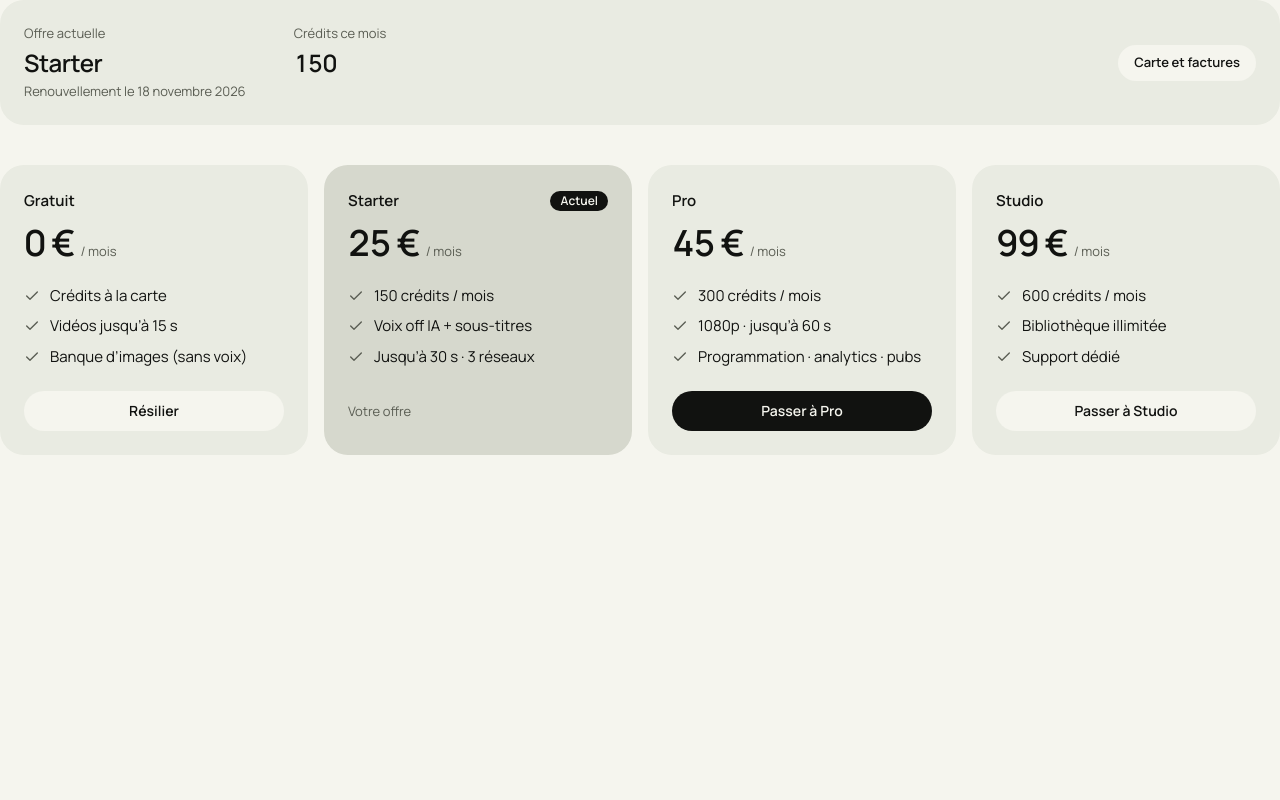
Scenario: <Paywall /> plan changes for a subscriber (AC-9..AC-11) › an upgrade shows the amount due today before anything is charged
What coordinates should you click on to do the following:
click the button with test id "change-pro"
I would click on:
 (802, 411)
Its box is [672, 391, 932, 431].
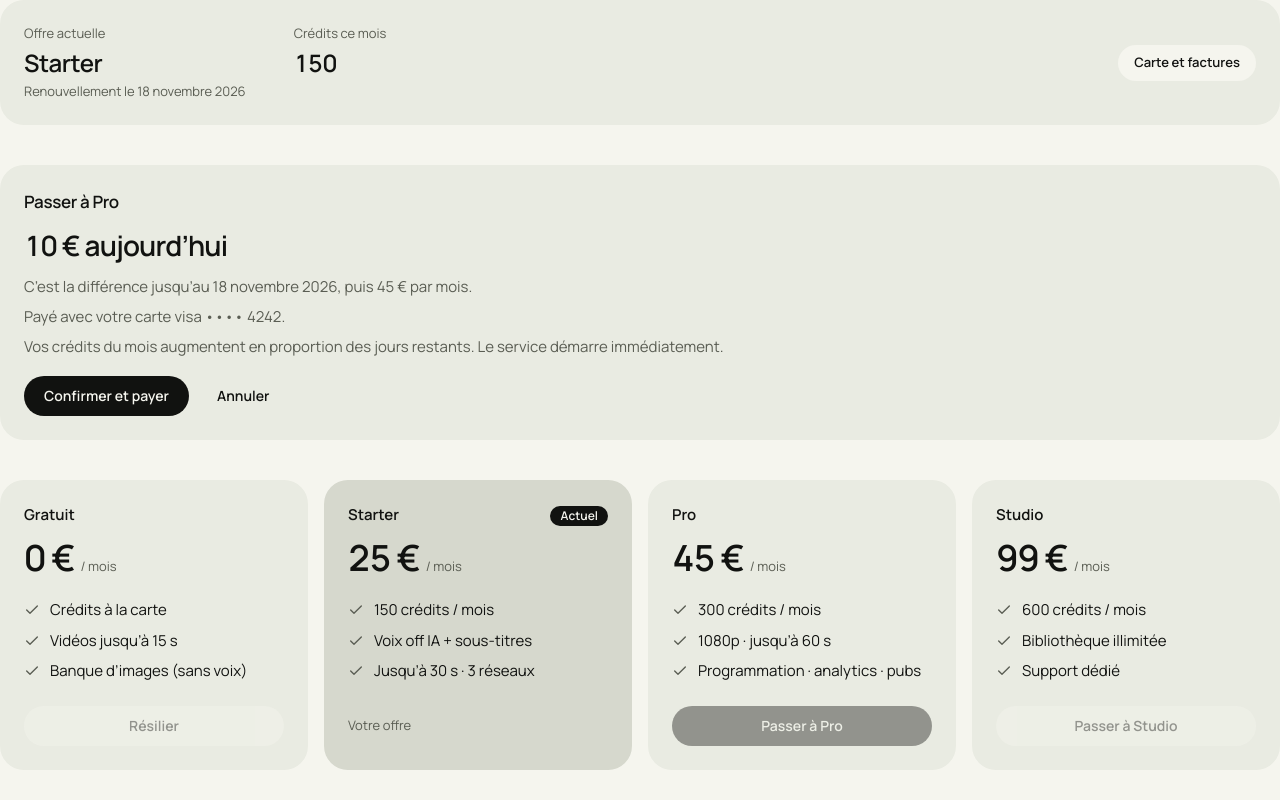
expect the text with test id "change-due-today" reads "10 € aujourd’hui": met, box [24, 226, 227, 264]
expect the element with test id "plan-change-panel" shows "45 € par mois": met, box [24, 276, 472, 296]
expect the element with test id "plan-change-panel" shows "visa •••• 4242": met, box [24, 306, 285, 327]
What coordinates should you click on to do the following:
click the button with test id "change-confirm"
I would click on:
 (106, 396)
Its box is [24, 376, 189, 416].
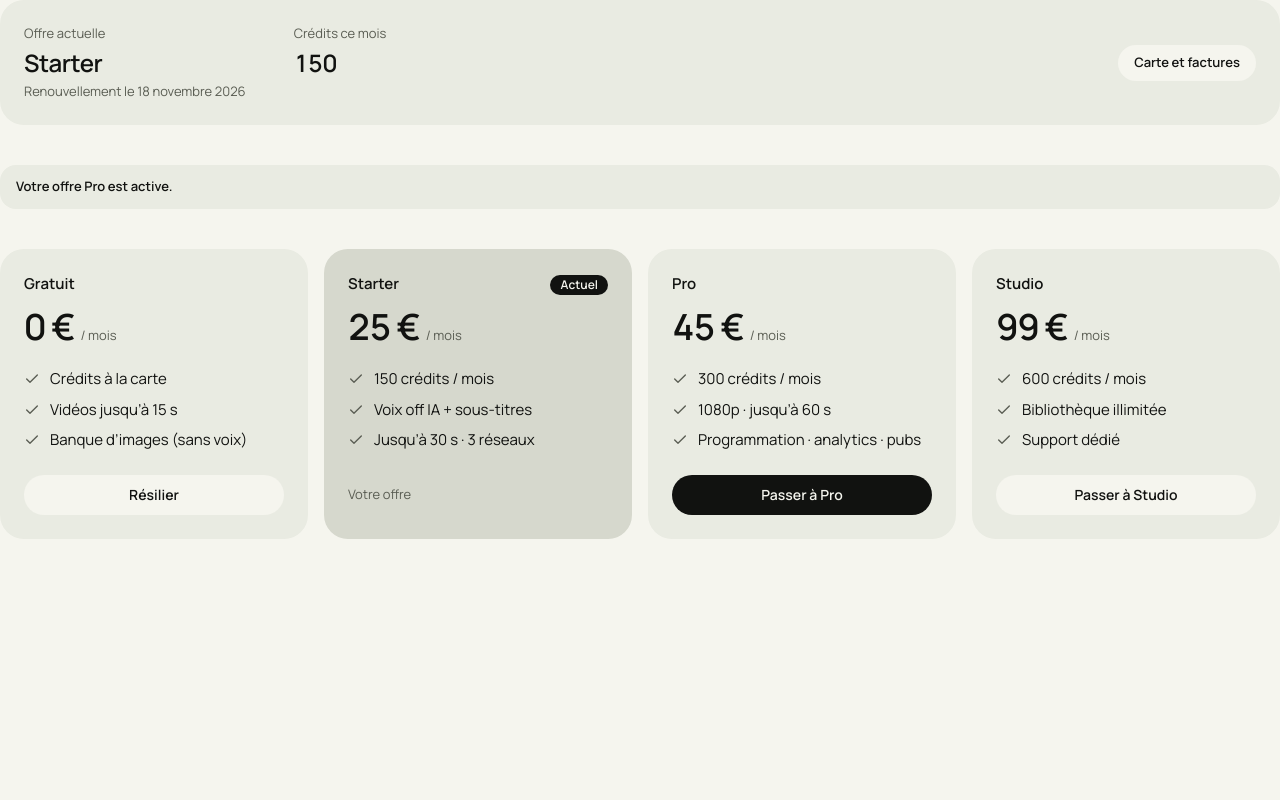
expect the message with test id "billing-notice" reads "Votre offre Pro est active.": met, box [16, 177, 172, 195]
